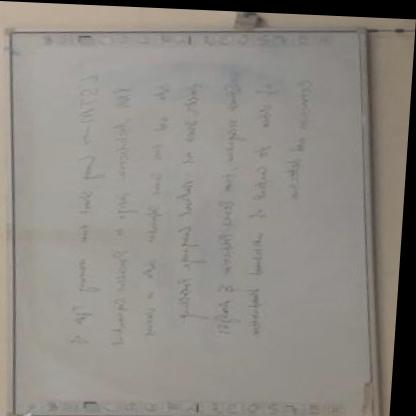Handwritten text: (55, 66, 111, 360), (240, 71, 291, 338), (211, 77, 250, 339), (140, 72, 177, 347), (104, 76, 139, 349), (172, 69, 208, 328), (284, 72, 323, 200)
Whiteboard: (5, 25, 384, 416)
